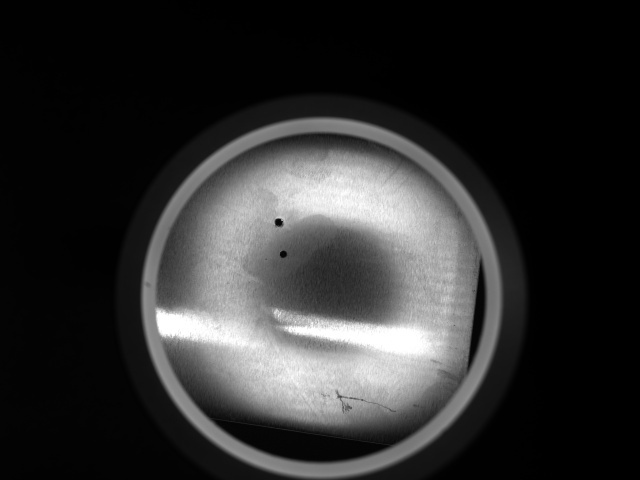ca_shang: (328, 384, 406, 417)
zhen_kong: (272, 214, 284, 230), (278, 247, 291, 258)
